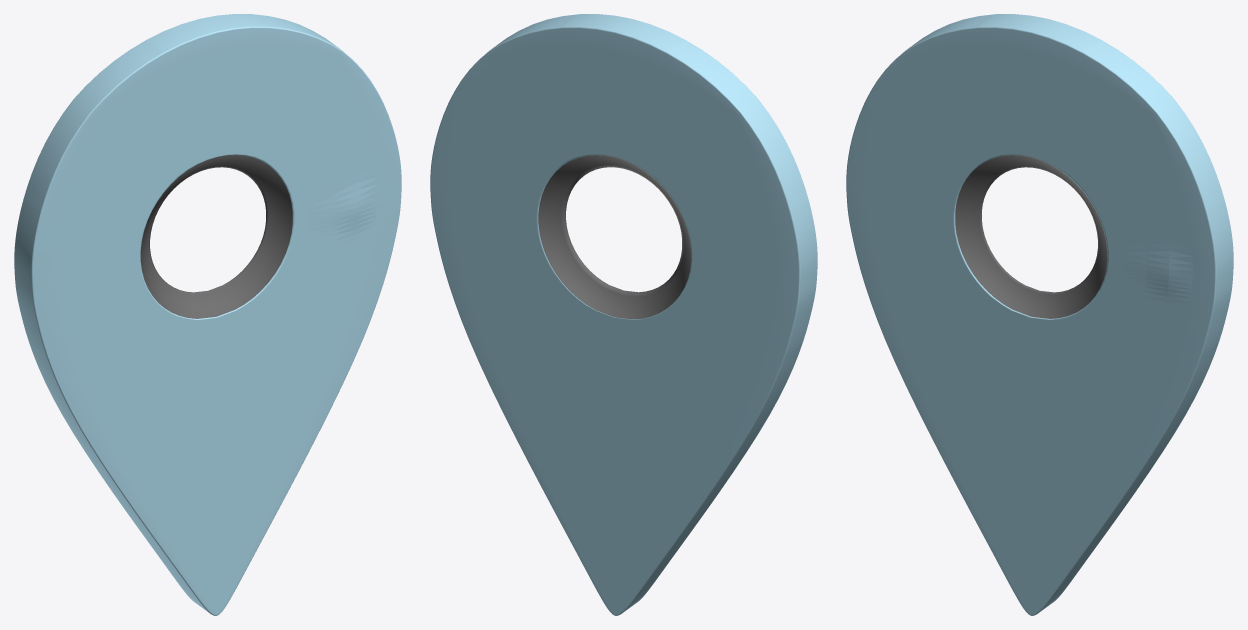
File: map_pointer4.glb
3 renders of one model, left to right at view 1: azimuth 30°, elevation 25°; view 2: azimuth 150°, elevation 25°; view 3: azimuth 330°, elevation 25°, orthographic.
Visible parts, largest first — view 1: Plane; view 2: Plane; view 3: Plane.
Part boxes in pixels (x1,y1,x2,y2): Plane: (14, 14, 401, 615); Plane: (430, 14, 817, 615); Plane: (846, 14, 1233, 615).
Size of the model in its own units: 2.66 by 4.02 by 0.2366.
